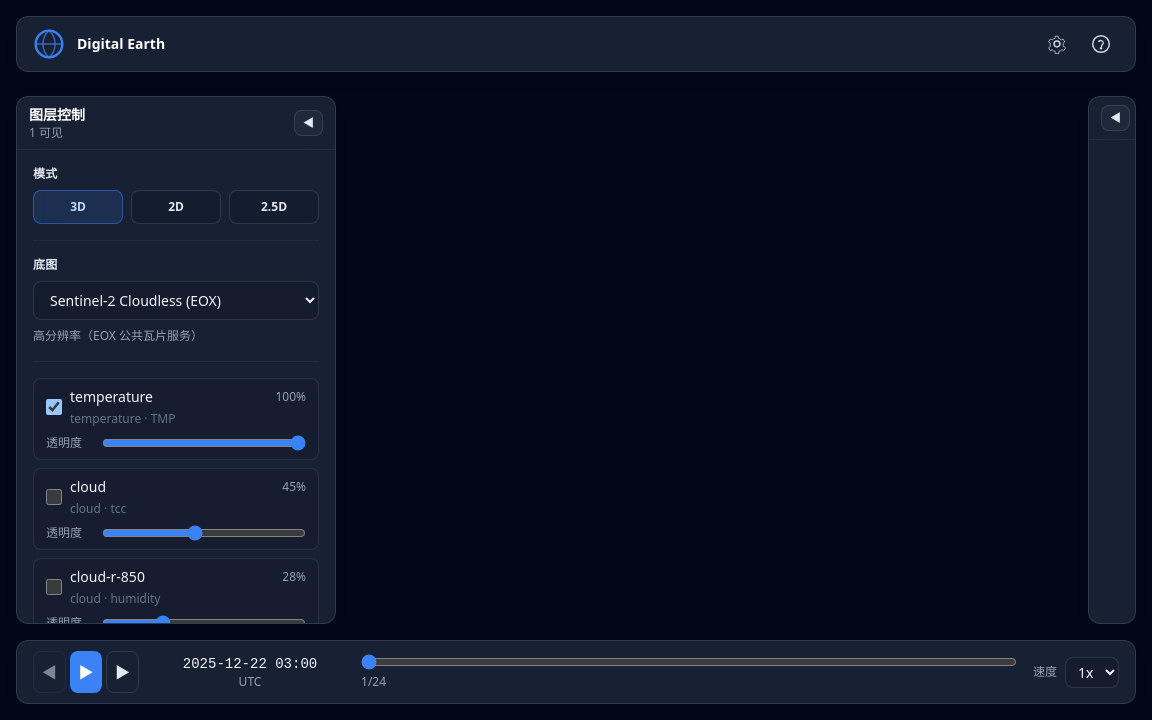
Scenario: AppLayout › persists panel collapse toggles to localStorage
Click the button named "折叠图层面板" at (308, 123), box [294,110,323,136]
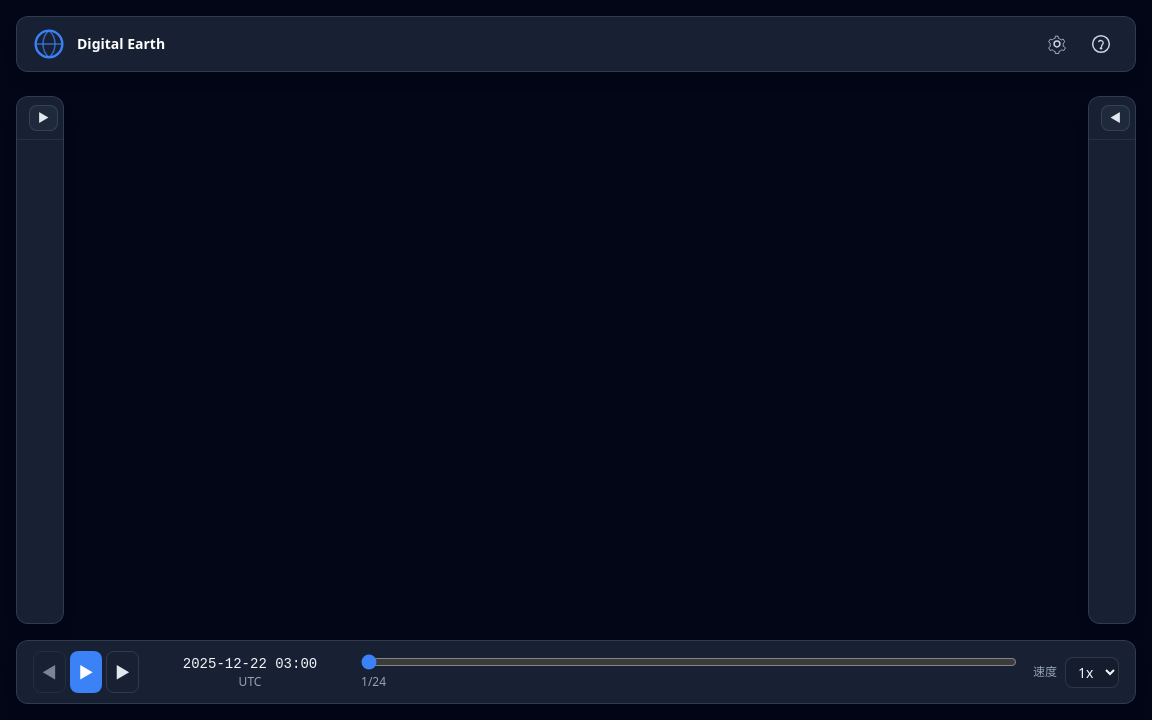
Check: the button named "展开图层面板" is shown, box [29,105,58,131]
Click the button named "展开信息面板" at (1116, 118), box [1101,105,1130,131]
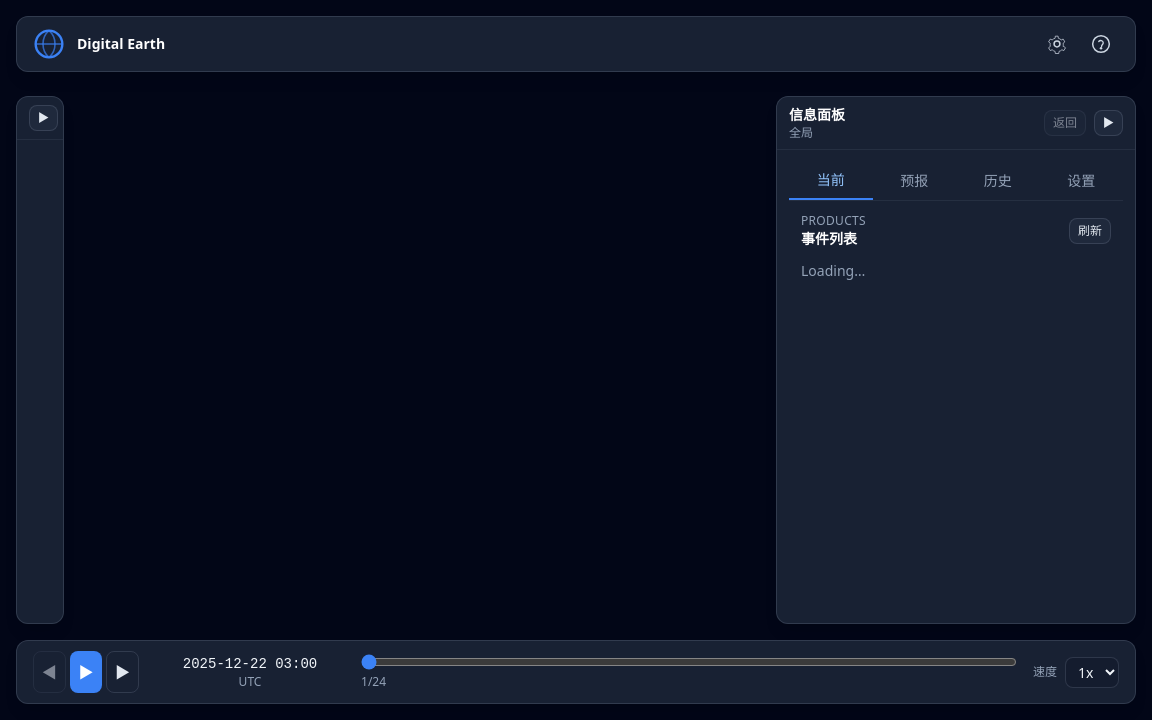
Check: the button named "折叠信息面板" is shown
Click the button named "折叠信息面板" at (1108, 123), box [1094,110,1123,136]
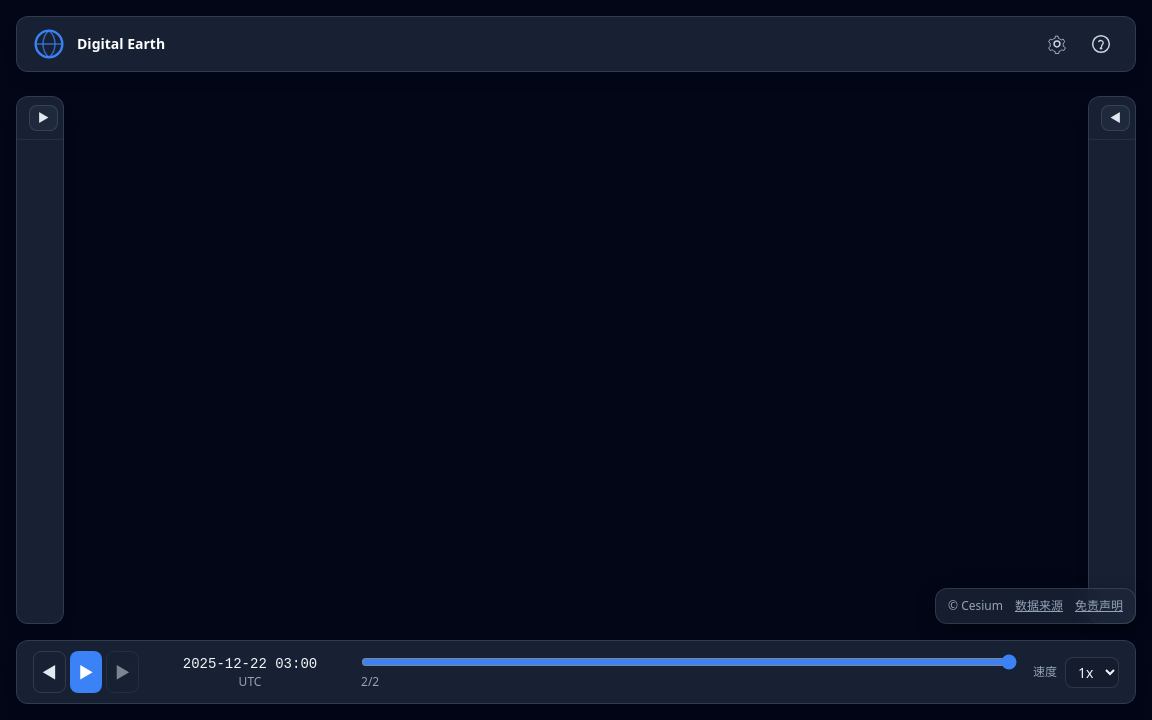
Check: the button named "展开信息面板" is shown, box [1101,105,1130,131]
